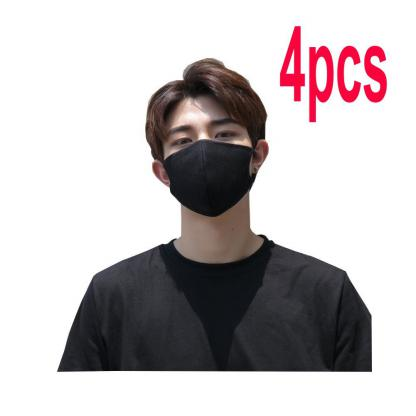Wearing_Mask: (162, 112, 253, 216)
